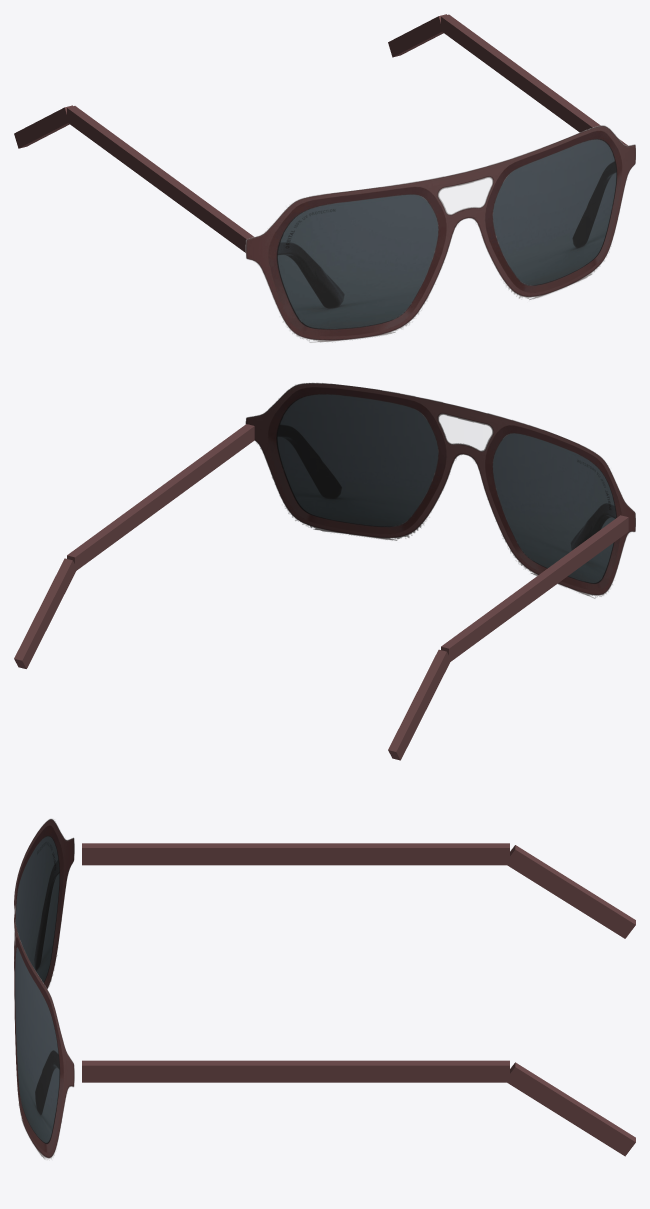
The picture shows the model from 3 angles, top to bottom: view 1: azimuth 30°, elevation 25°; view 2: azimuth 150°, elevation 25°; view 3: azimuth 270°, elevation 25°; orthographic projection. The views are drawn at different scales.
Visible parts, largest first — view 1: anteojo; view 2: anteojo; view 3: anteojo.
Part boxes in pixels (x1=…): anteojo: x1=14, y1=14, x2=635, y2=342; anteojo: x1=14, y1=382, x2=635, y2=760; anteojo: x1=14, y1=818, x2=635, y2=1160.
Bounding box in the file's own units: 0.142 × 0.052 × 0.1644.
2 materials, 1 textured.
